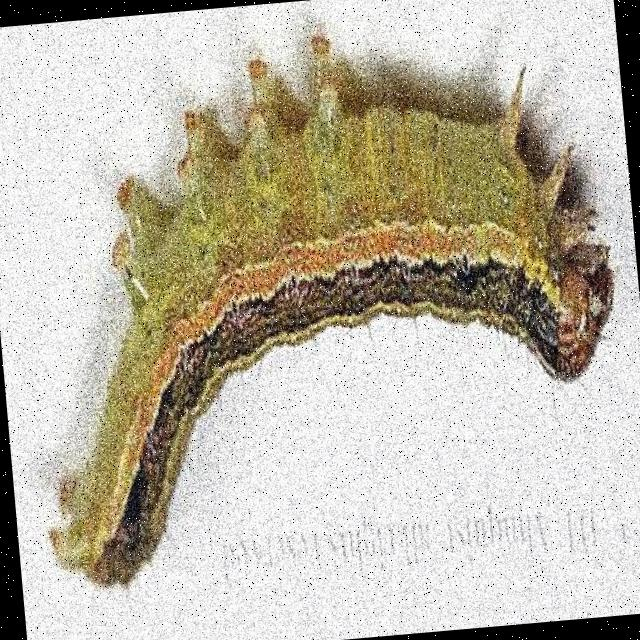worm: (6, 8, 640, 598)
